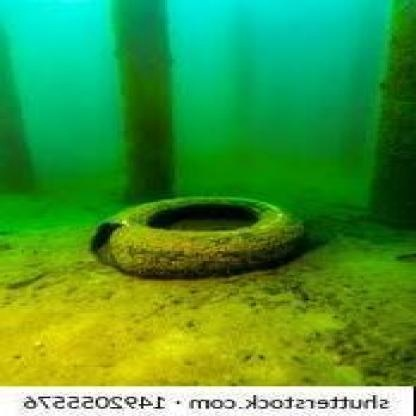tire: (91, 199, 318, 287)
